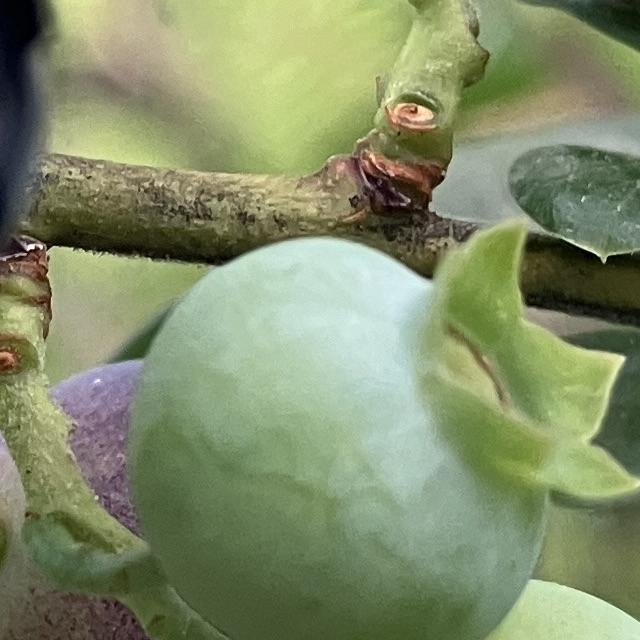Blueberries: (122, 206, 637, 640)
